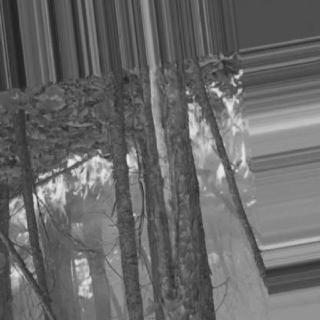Fire: (5, 155, 147, 307), (184, 70, 256, 227)
